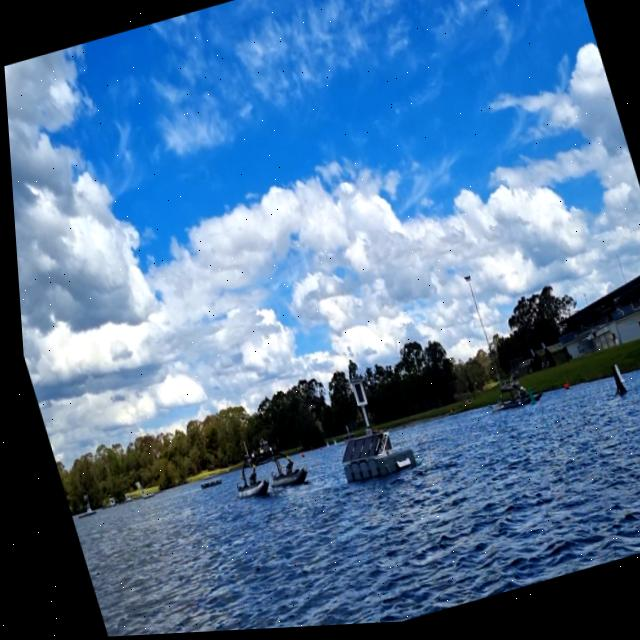led: (347, 384, 360, 408)
